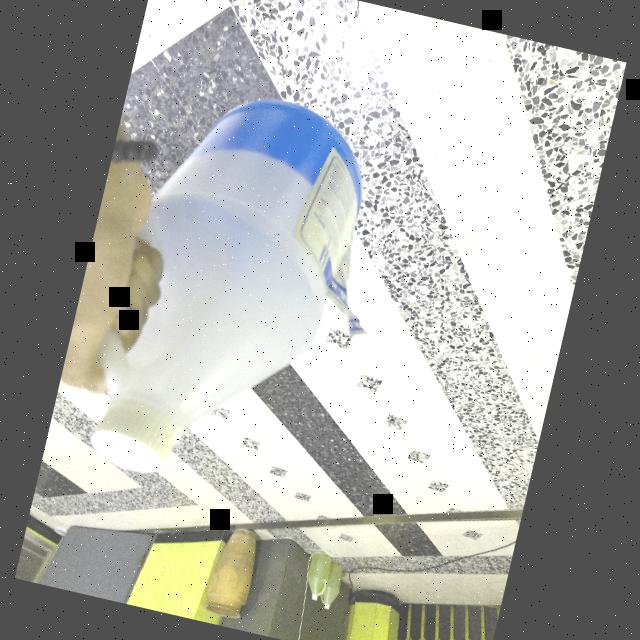chemical_plastic_gallon: (47, 46, 431, 538)
